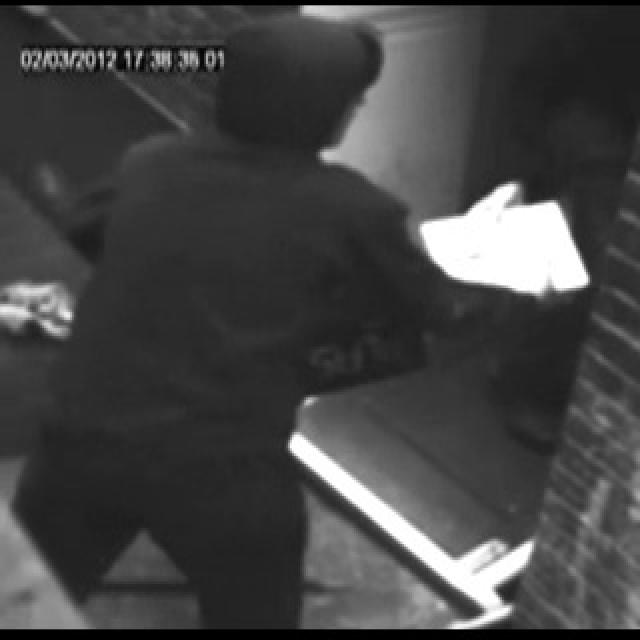thief: (193, 0, 411, 198)
